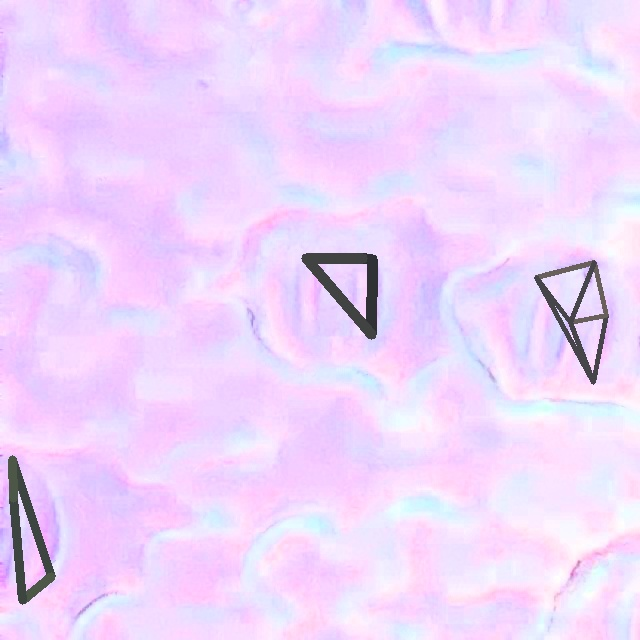open: (534, 261, 607, 384), (9, 455, 55, 604), (302, 253, 376, 338)
